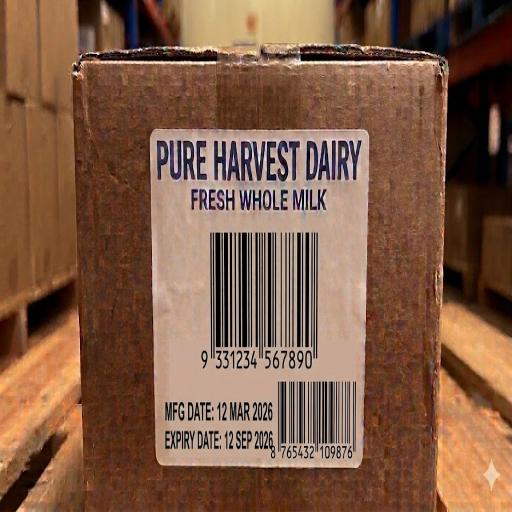barcoderotation: (194, 224, 328, 372), (277, 379, 357, 458)
expiry_daterotation: (163, 426, 272, 458)
labelrotation: (153, 136, 361, 465)
mfg_daterotation: (161, 390, 275, 426)
